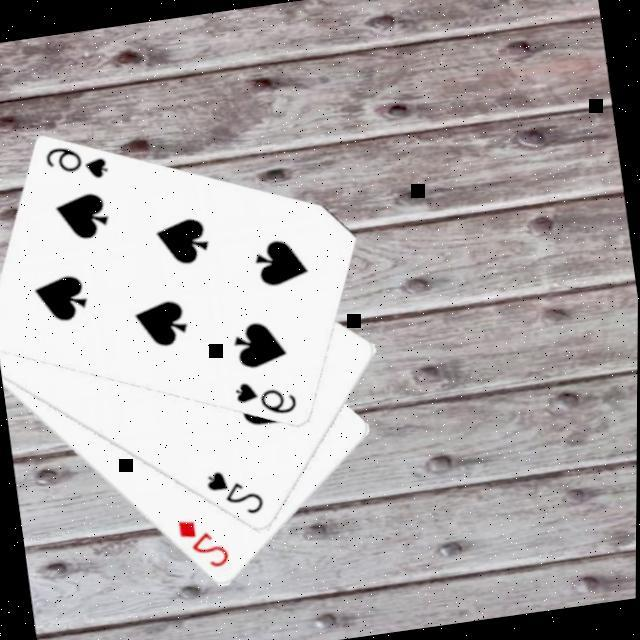2D: (173, 510, 234, 575)
2S: (200, 460, 268, 523)
6S: (230, 370, 301, 423), (40, 137, 111, 188)
